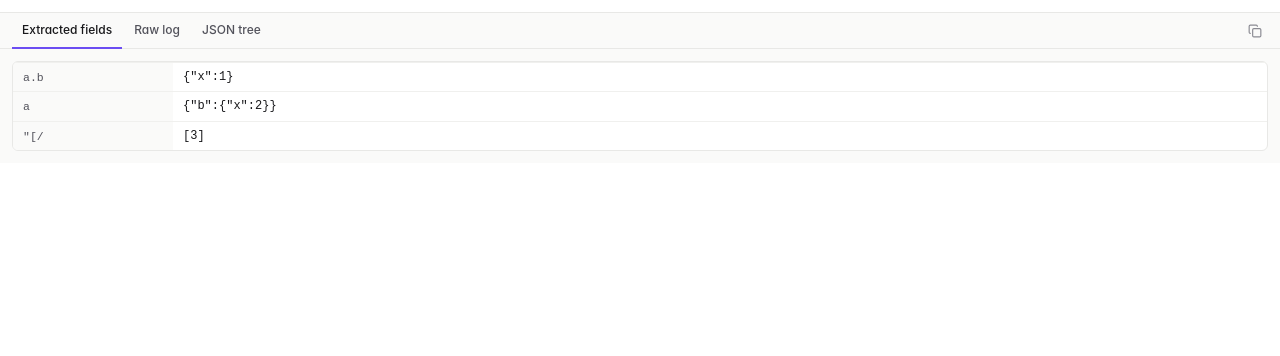
expanded log JSON tree › keeps paths distinct when keys contain dots, brackets, quotes, or slashes
Click the button "JSON tree" at (231, 31), box [192, 13, 271, 49]
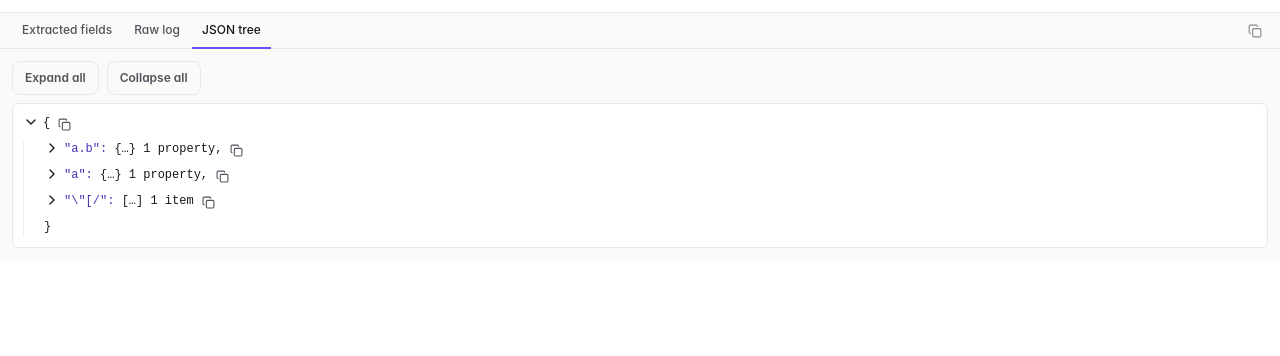
Click the button "\"a.b\": {…} 1 property," at (133, 150), box [44, 140, 222, 159]
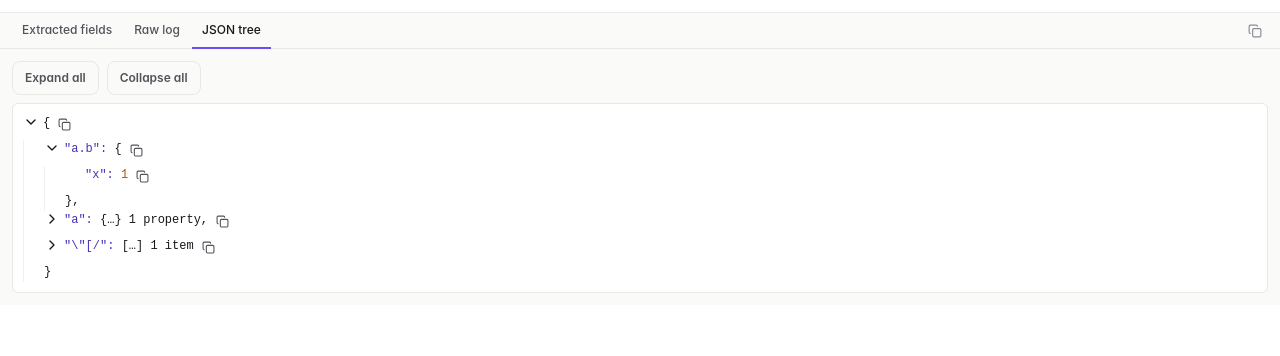
Now the text "1" is shown, box [121, 168, 128, 182]
Click the button "\"\\\"[/\": […] 1 item" at (119, 247), box [44, 237, 194, 256]
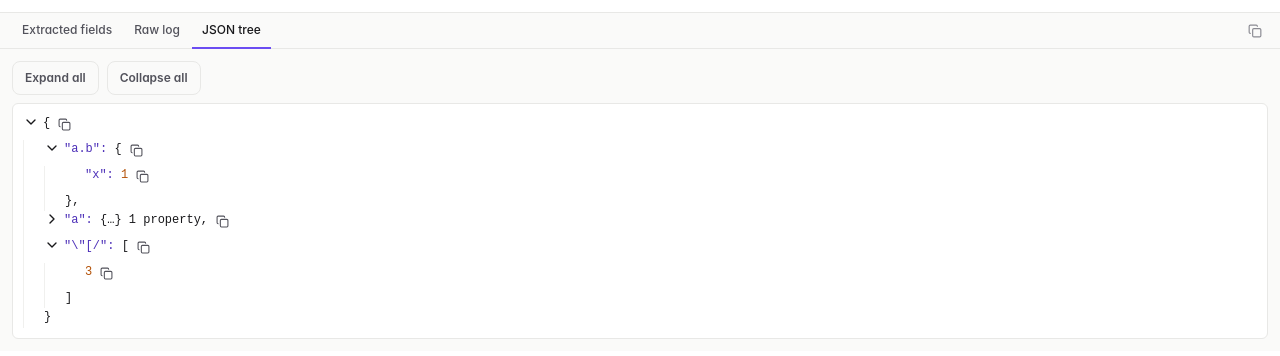
Now the text "3" is shown, box [85, 265, 92, 279]
